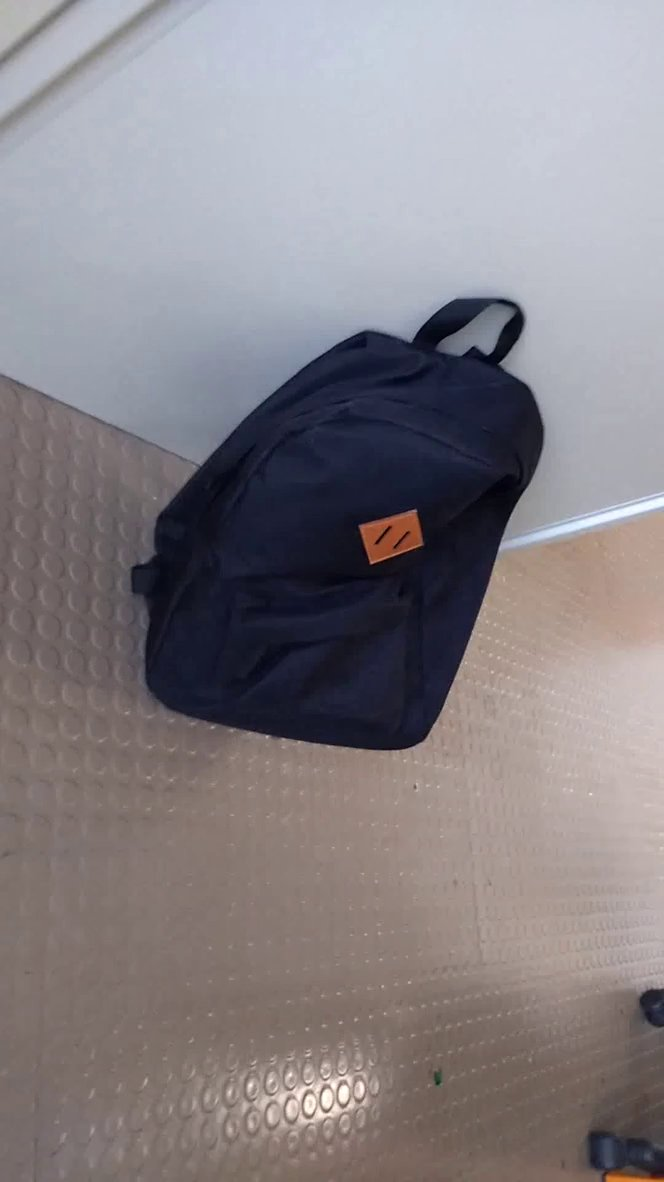bag: (116, 283, 555, 778)
